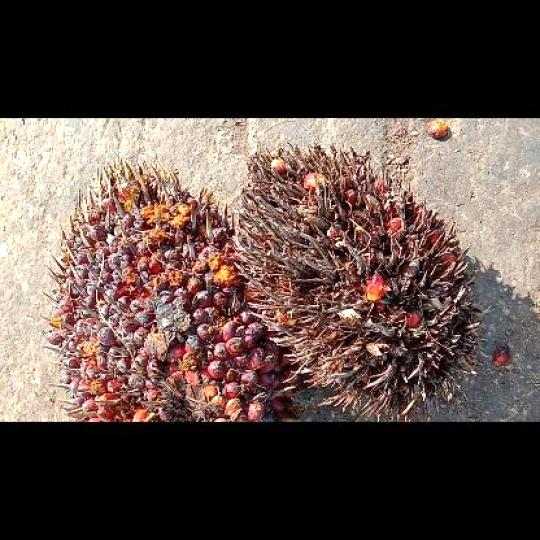masak: (43, 162, 300, 420)
terlalu masak: (233, 142, 486, 420)
